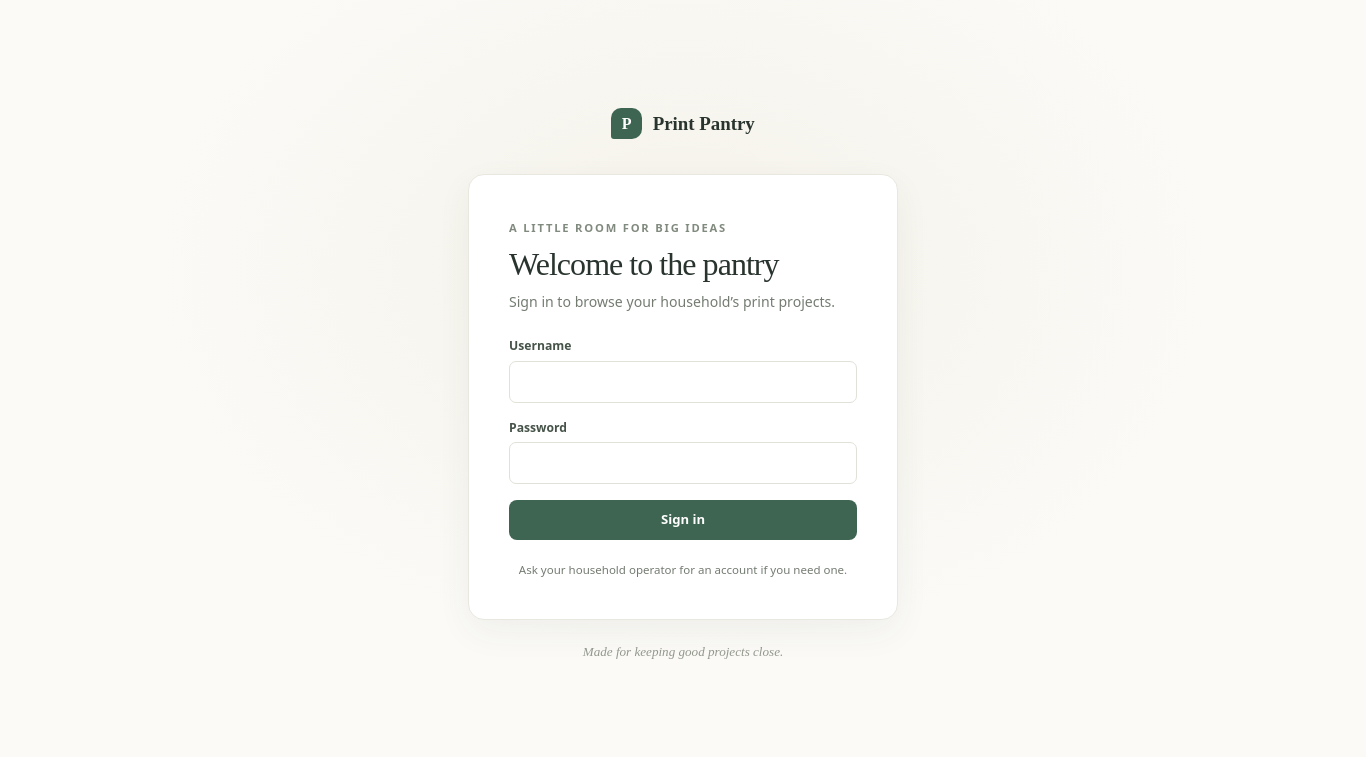
Scenario: signs in and shows the authenticated image-first catalog
Expected: the heading "Welcome to the pantry" is shown, [509,246,779,282]
Step 1. Type "maker" into the field labelled "Username" → (683, 382), box [509,361,857,403]
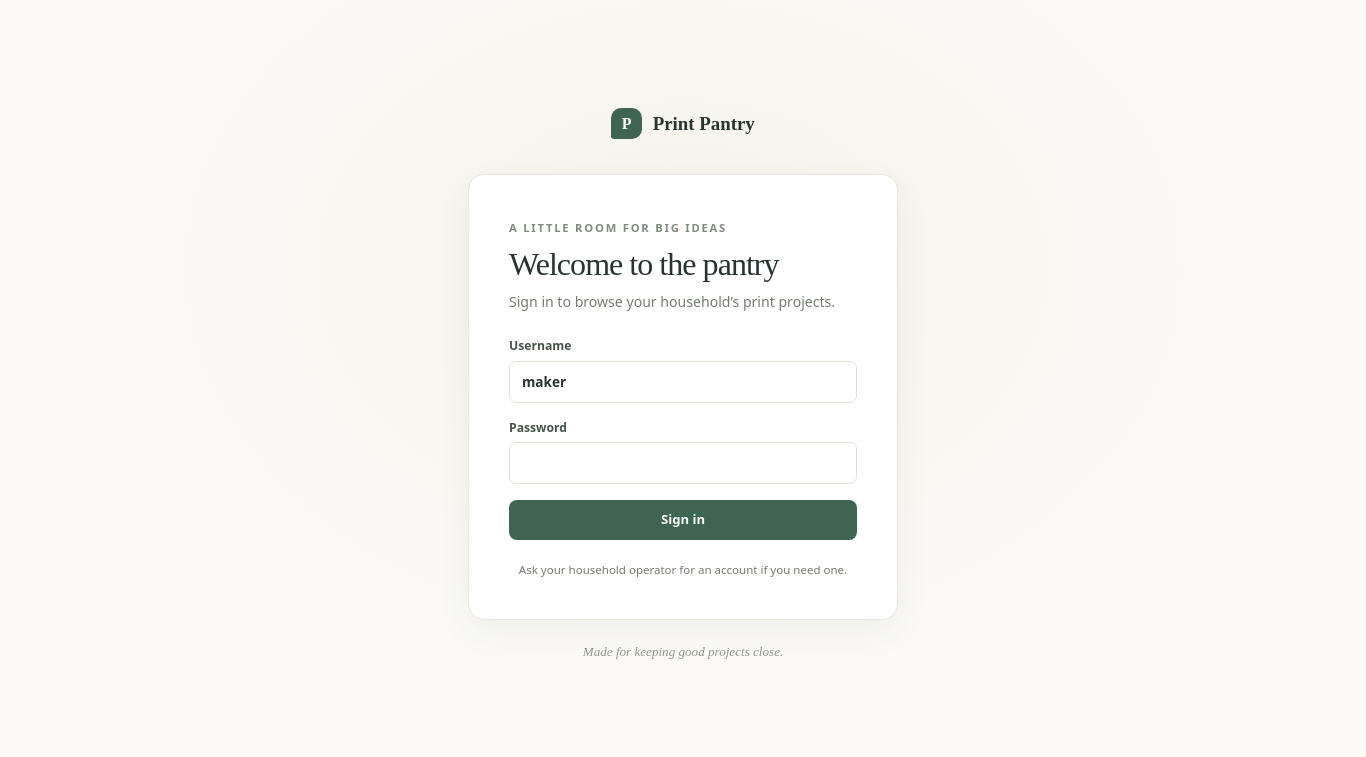
Step 2. Type "pantry-pass" into the password field labelled "Password" → (683, 463), box [509,442,857,484]
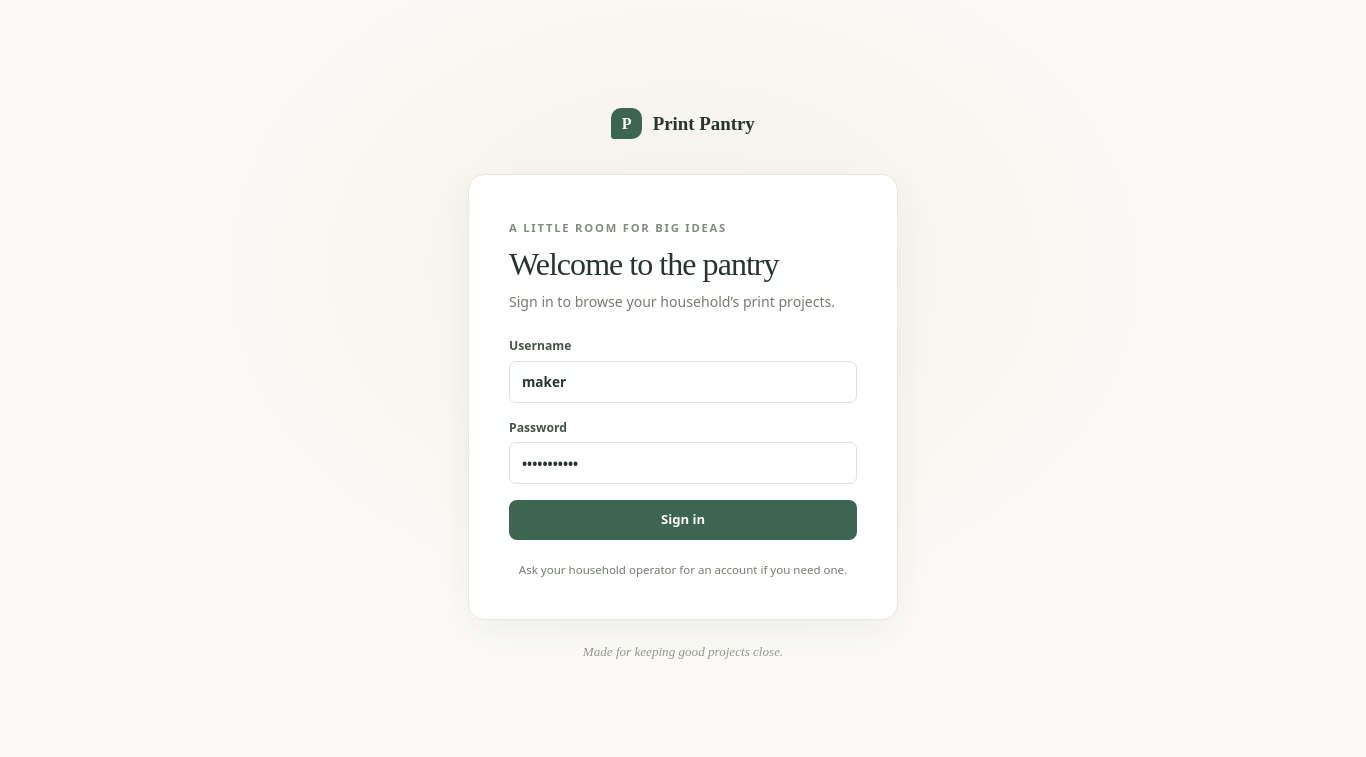
Step 3. Click the button "Sign in" → (683, 520), box [509,500,857,540]
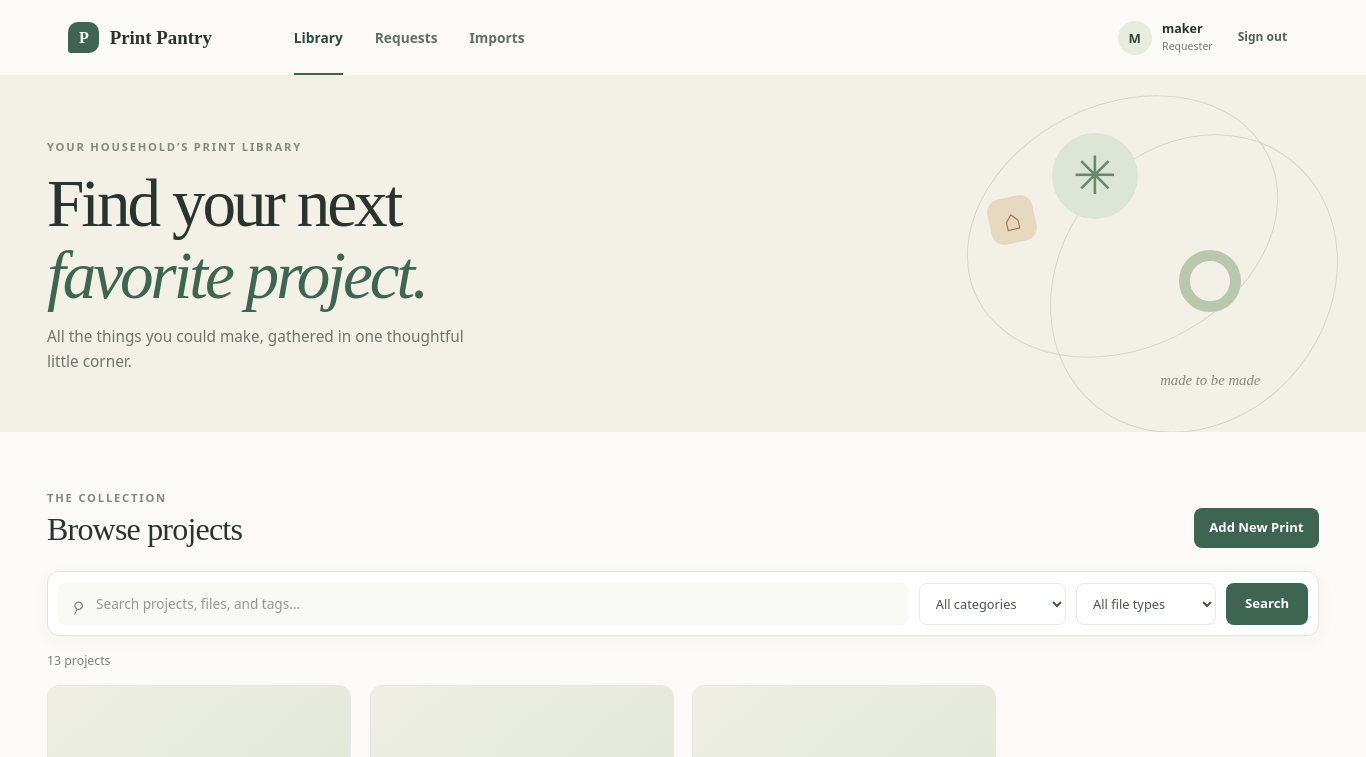
Result: the heading "Browse projects" is shown at [47,511,242,548]
Result: the text "13 projects" is shown at [47,652,110,669]
Result: the button "Sign out" is shown at [1227,20,1298,54]
